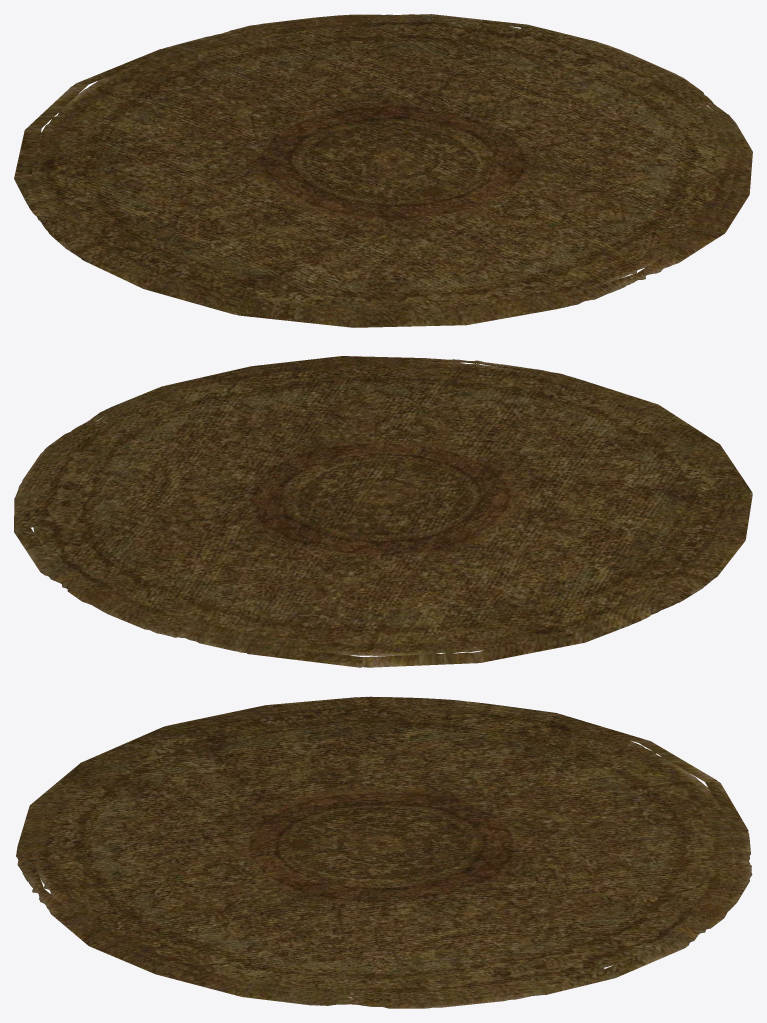
File: GS_FURNITURE_VARANT_CARPET_04_KWIATEK.glb
3 renders of one model, top to bottom at view 1: azimuth 30°, elevation 25°; view 2: azimuth 150°, elevation 25°; view 3: azimuth 270°, elevation 25°, orthographic.
Visible parts, largest first — view 1: Mesh; view 2: Mesh; view 3: Mesh.
Boxes of the visible parts, <box> form: Mesh: <box>14,14,752,327</box>; Mesh: <box>14,356,752,667</box>; Mesh: <box>16,696,752,1008</box>.
Bounding box in the file's own units: 2.08 × 0.0381 × 2.08.
1 material, 1 textured.
